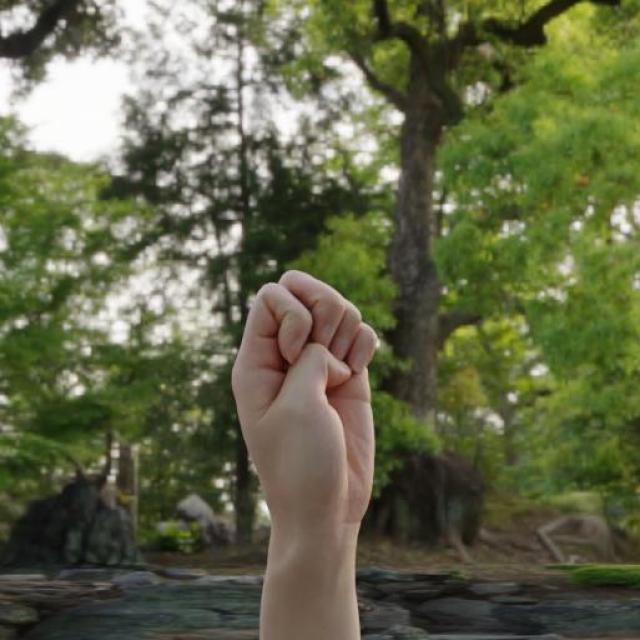E: (230, 268, 381, 530)
